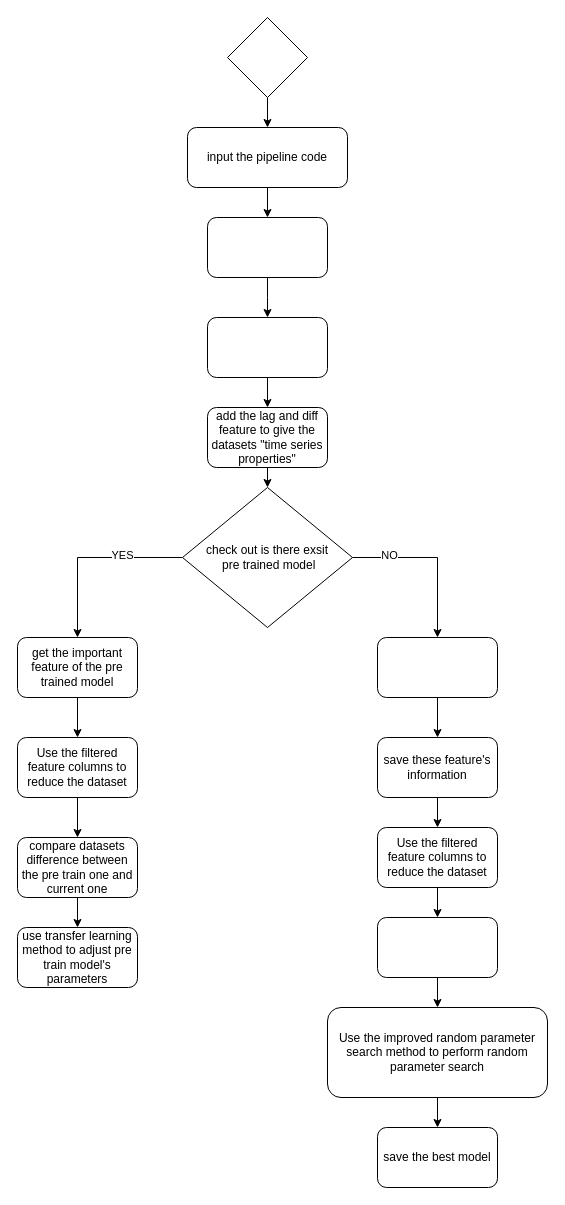
The diagram is 565 pixels wide and 1205 high, and some of its shapes have lost their labels. Here are the shapes that lost their labels. From the top down, the box of each, then its label:
(226, 16, 308, 98): start
(206, 216, 328, 278): input the fault code which want to predict
(206, 316, 328, 378): Eliminate the original timing information
(376, 636, 498, 698): use random forest method to selected the important feature
(376, 916, 498, 978): use XGBoost model to prediciton fault
